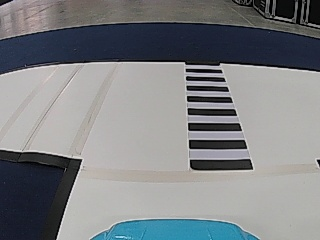CrossWalk: (184, 63, 254, 174)
